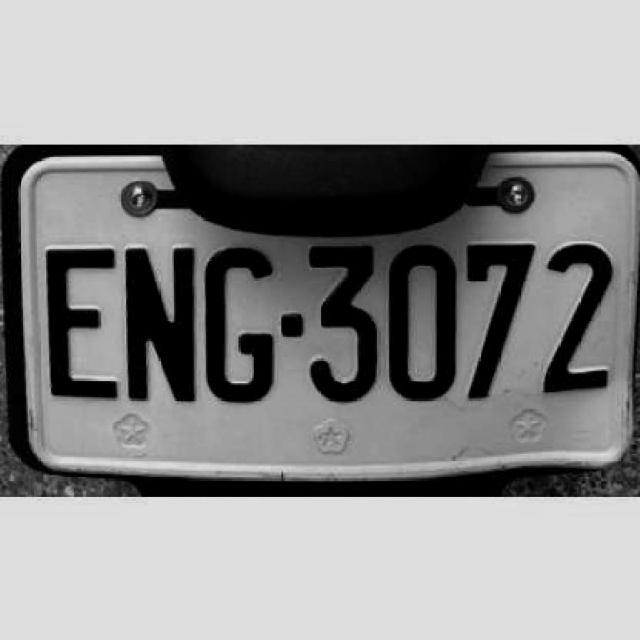-: (277, 311, 303, 337)
0: (384, 239, 458, 406)
2: (537, 235, 614, 398)
3: (307, 242, 378, 409)
7: (460, 234, 537, 401)
E: (38, 237, 120, 400)
G: (200, 237, 275, 409)
N: (117, 236, 200, 407)
